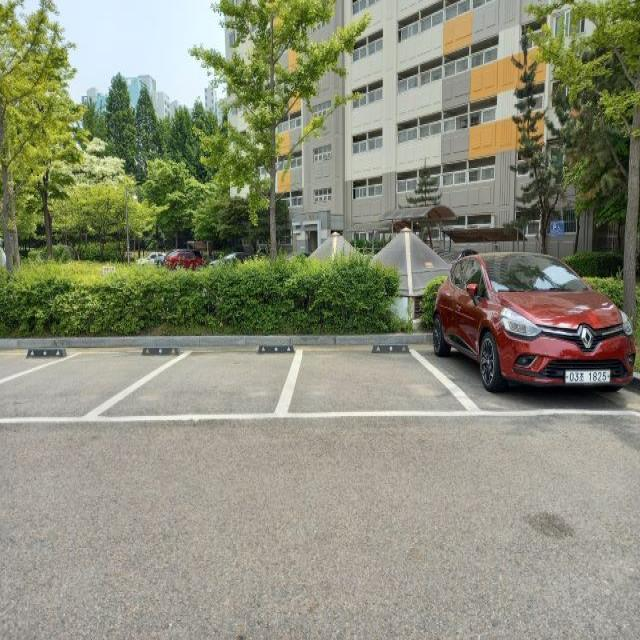empty: (89, 338, 303, 419), (279, 343, 482, 421), (0, 346, 200, 419)
occupied: (434, 251, 634, 392)
